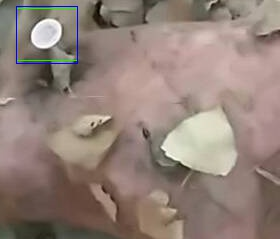text: (16, 8, 77, 60)
